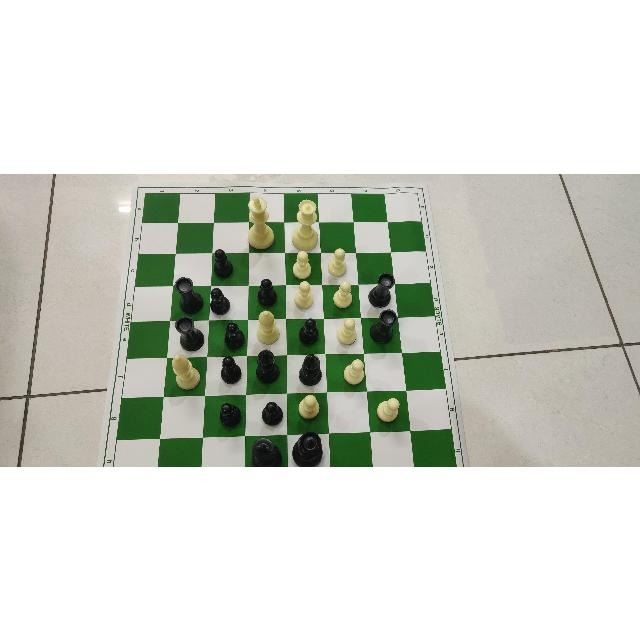black-bishop: (253, 349, 282, 385), (298, 352, 321, 386)
black-king: (249, 434, 285, 464)
black-pawn: (298, 317, 323, 345), (220, 355, 244, 383), (260, 399, 285, 425), (256, 276, 277, 306), (218, 401, 243, 426), (213, 247, 233, 276), (225, 320, 245, 349), (210, 288, 230, 314)
black-queen: (292, 429, 322, 465)
black-rook: (173, 314, 205, 350), (172, 278, 204, 314), (368, 272, 396, 308), (370, 308, 398, 342)
white-bishop: (170, 354, 203, 390), (256, 308, 281, 343)
white-king: (243, 194, 275, 250)
white-pawn: (327, 246, 351, 276), (296, 392, 321, 420), (340, 357, 363, 387), (292, 279, 315, 309), (378, 394, 402, 422), (331, 280, 356, 305), (336, 316, 356, 346), (292, 249, 312, 279)
white-queen: (290, 197, 318, 249)
